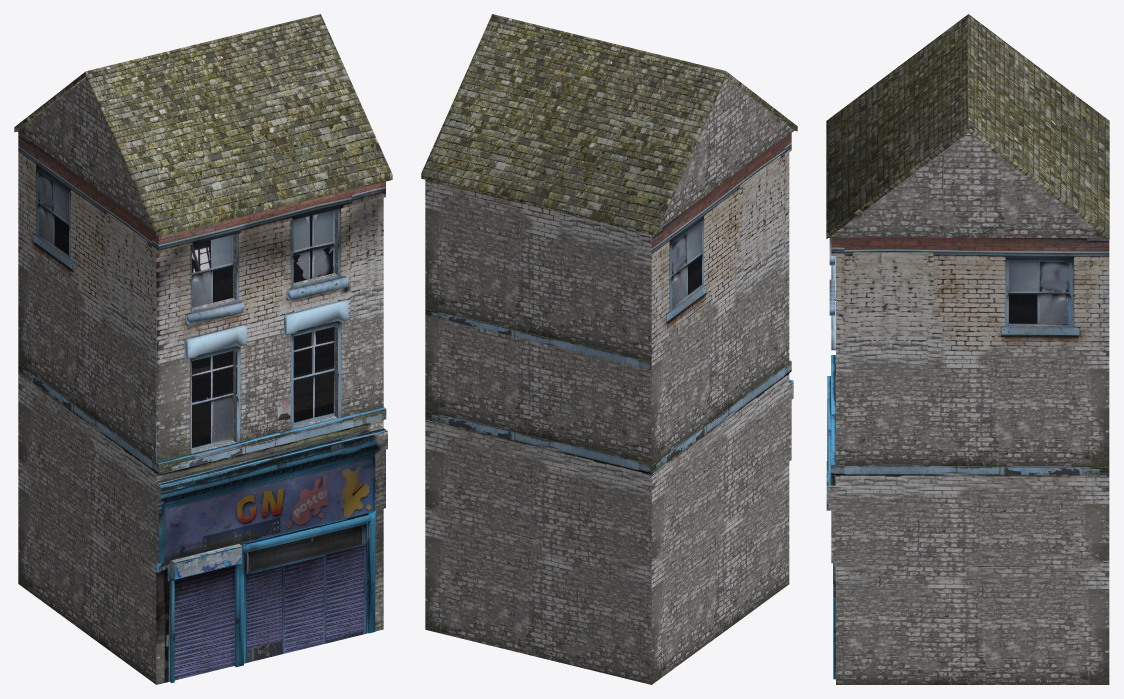
The model's file is building21.obj.
3 views of the same model, side by side, from view 1: azimuth 30°, elevation 25°; view 2: azimuth 150°, elevation 25°; view 3: azimuth 270°, elevation 25° (orthographic).
Parts seen in each view (by area): view 1: Untitled; view 2: Untitled; view 3: Untitled.
Boxes of the visible parts, x1,y1,x2,y2 form: Untitled: (14, 14, 392, 684); Untitled: (421, 14, 797, 684); Untitled: (826, 14, 1109, 684).
Size of the model in its own units: 211 by 485 by 223.
Materials: 2 (1 with a texture image).
